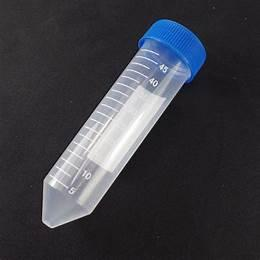Test tube: (30, 14, 202, 224)
